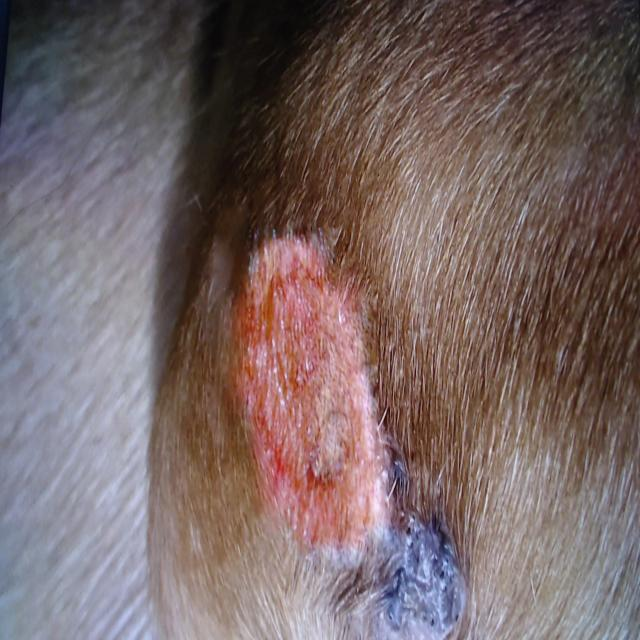ringworm: (235, 216, 405, 569)
